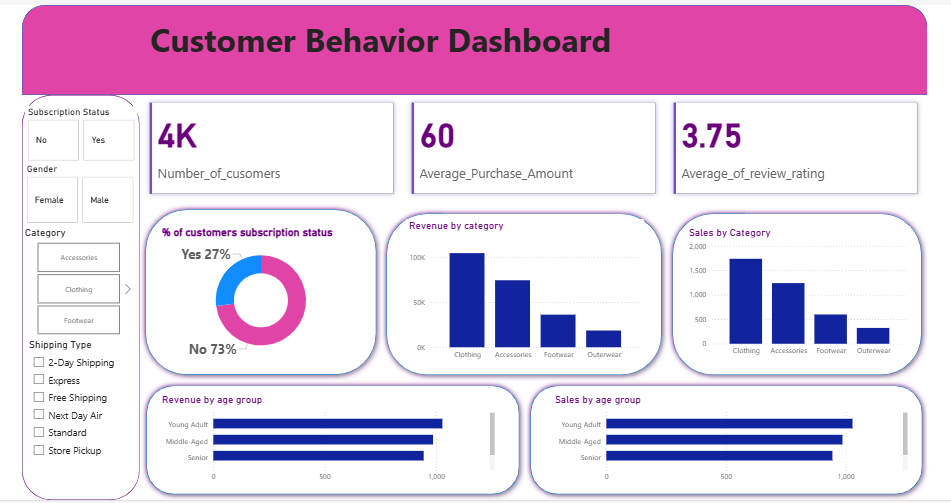

The dashboard page shown, as its layout file describes it:
{"tool":"powerbi","page":{"name":"Page 1","canvas":[1500,820],"ordinal":0},"visuals":[{"type":"cardVisual","fields":{"Data":["public customer.Number_of_cusomers","public customer.Average_Purchase_Amount","public customer.Average_of_review_rating"]},"box":[194.8,145,1305.2,184],"z":0},{"type":"shape","box":[0,0,1500,149.4],"z":1000},{"type":"textbox","box":[195.8,14.8,797.9,116.4],"z":2000},{"type":"shape","box":[194.8,329,400.4,292.2],"z":3000},{"type":"donutChart","title":"% of customers subscription status","fields":{"Category":["public customer.subscription_status"],"Y":["CountNonNull(public customer.customer_id)"]},"box":[227.3,365.8,337.7,227.3],"z":4000},{"type":"shape","box":[595.2,335.5,474,285.7],"z":5000},{"type":"shape","box":[1069.3,335.5,430.7,285.7],"z":6000},{"type":"clusteredColumnChart","title":"Revenue by category","fields":{"Category":["public customer.category"],"Y":["Sum(public customer.purchase_amount)"]},"box":[636.4,355,393.9,242.4],"z":7000},{"type":"clusteredColumnChart","title":"Sales by Category","fields":{"Category":["public customer.category"],"Y":["CountNonNull(public customer.customer_id)"]},"box":[1099.6,365.8,372.3,225.1],"z":8000},{"type":"shape","box":[0,149.4,194.8,671],"z":9000},{"type":"slicer","title":"Category","fields":{"Values":["public customer.category"]},"box":[0,365.9,186.4,186.4],"z":10000},{"type":"advancedSlicerVisual","title":"Gender","fields":{"Values":["public customer.gender"]},"box":[3.5,261.3,186.4,104.5],"z":11000},{"type":"advancedSlicerVisual","title":"Subscription Status","fields":{"Values":["public customer.subscription_status"]},"box":[4.3,166.7,186.1,95.2],"z":12000},{"type":"slicer","title":"Shipping Type","fields":{"Values":["public customer.shipping_type"]},"box":[7,552.3,174.2,228.2],"z":12001},{"type":"shape","box":[832.8,622,667.2,198.6],"z":12006},{"type":"clusteredBarChart","title":"Sales by age group","fields":{"Y":["CountNonNull(public customer.customer_id)"],"Category":["public customer.age_group"]},"box":[878,642.9,594.1,156.8],"z":12007},{"type":"shape","box":[196.9,622,635.9,198.6],"z":12008},{"type":"clusteredBarChart","title":"Revenue by age group","fields":{"Y":["CountNonNull(public customer.purchase_amount)"],"Category":["public customer.age_group"]},"box":[226.5,642.9,561,156.8],"z":12009}]}

Visuals, with their boxes on the page's 1500x820 design canvas (x1, y1, x2, y2). These are canvas units, not pixel positions in the 951x503 screenshot, which may show the page scaled, cropped or inside an application window:
cardVisual - public customer.Number_of_cusomers x public customer.Average_Purchase_Amount: (195,145,1500,329)
shape: (0,0,1500,149)
textbox: (196,15,994,131)
shape: (195,329,595,621)
"% of customers subscription status" donutChart: (227,366,565,593)
shape: (595,336,1069,621)
shape: (1069,336,1500,621)
"Revenue by category" clusteredColumnChart: (636,355,1030,597)
"Sales by Category" clusteredColumnChart: (1100,366,1472,591)
shape: (0,149,195,820)
"Category" slicer: (0,366,186,552)
"Gender" advancedSlicerVisual: (4,261,190,366)
"Subscription Status" advancedSlicerVisual: (4,167,190,262)
"Shipping Type" slicer: (7,552,181,780)
shape: (833,622,1500,821)
"Sales by age group" clusteredBarChart: (878,643,1472,800)
shape: (197,622,833,821)
"Revenue by age group" clusteredBarChart: (226,643,788,800)
